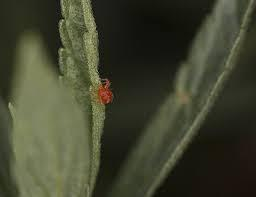insect: (93, 71, 117, 110)
